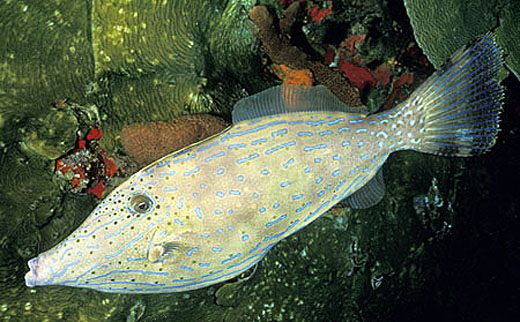Aluterus_scriptus: (22, 32, 508, 297)
